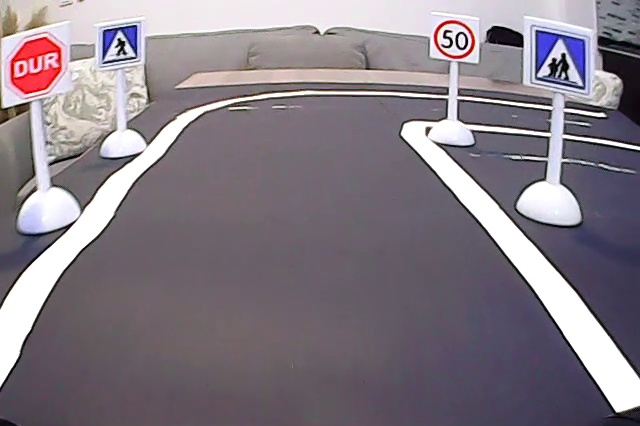pedestrian crossing: (96, 25, 141, 64)
school crossing: (522, 22, 588, 91)
speed limit 50: (432, 14, 476, 60)
stop sign: (4, 35, 70, 102)
